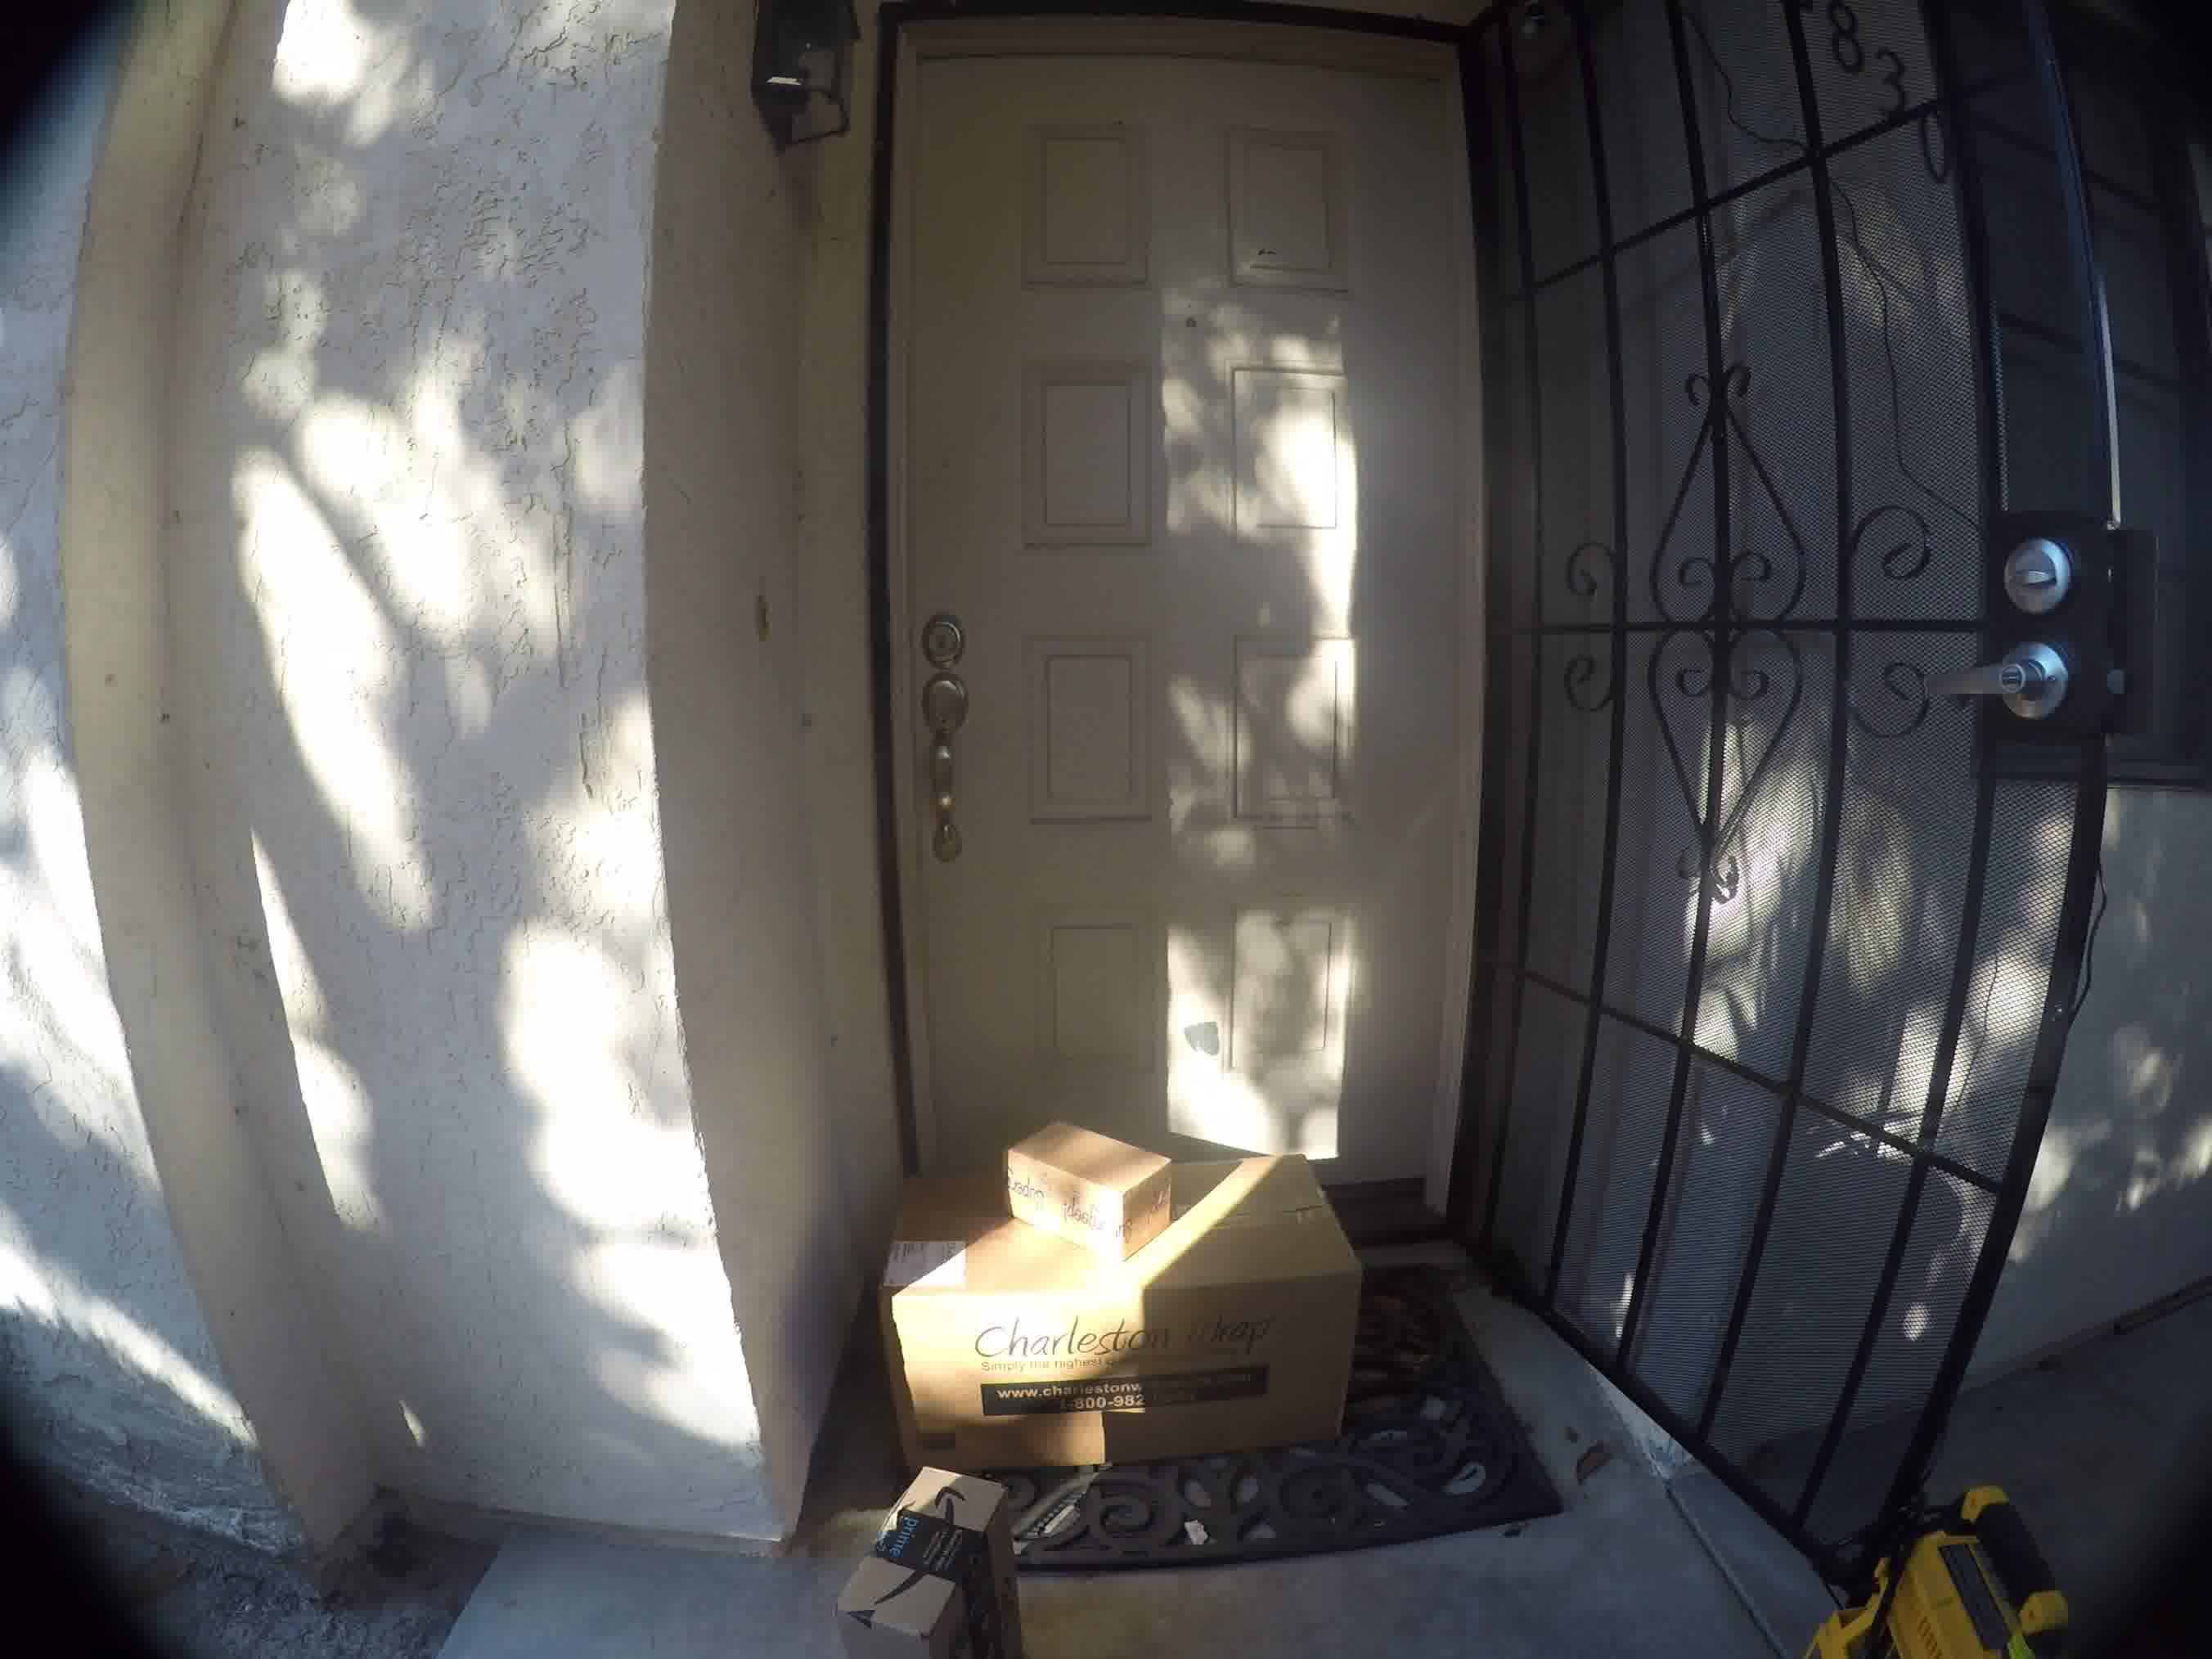box: (881, 1237, 1381, 1471), (846, 1478, 1031, 1652), (986, 1117, 1190, 1244)
